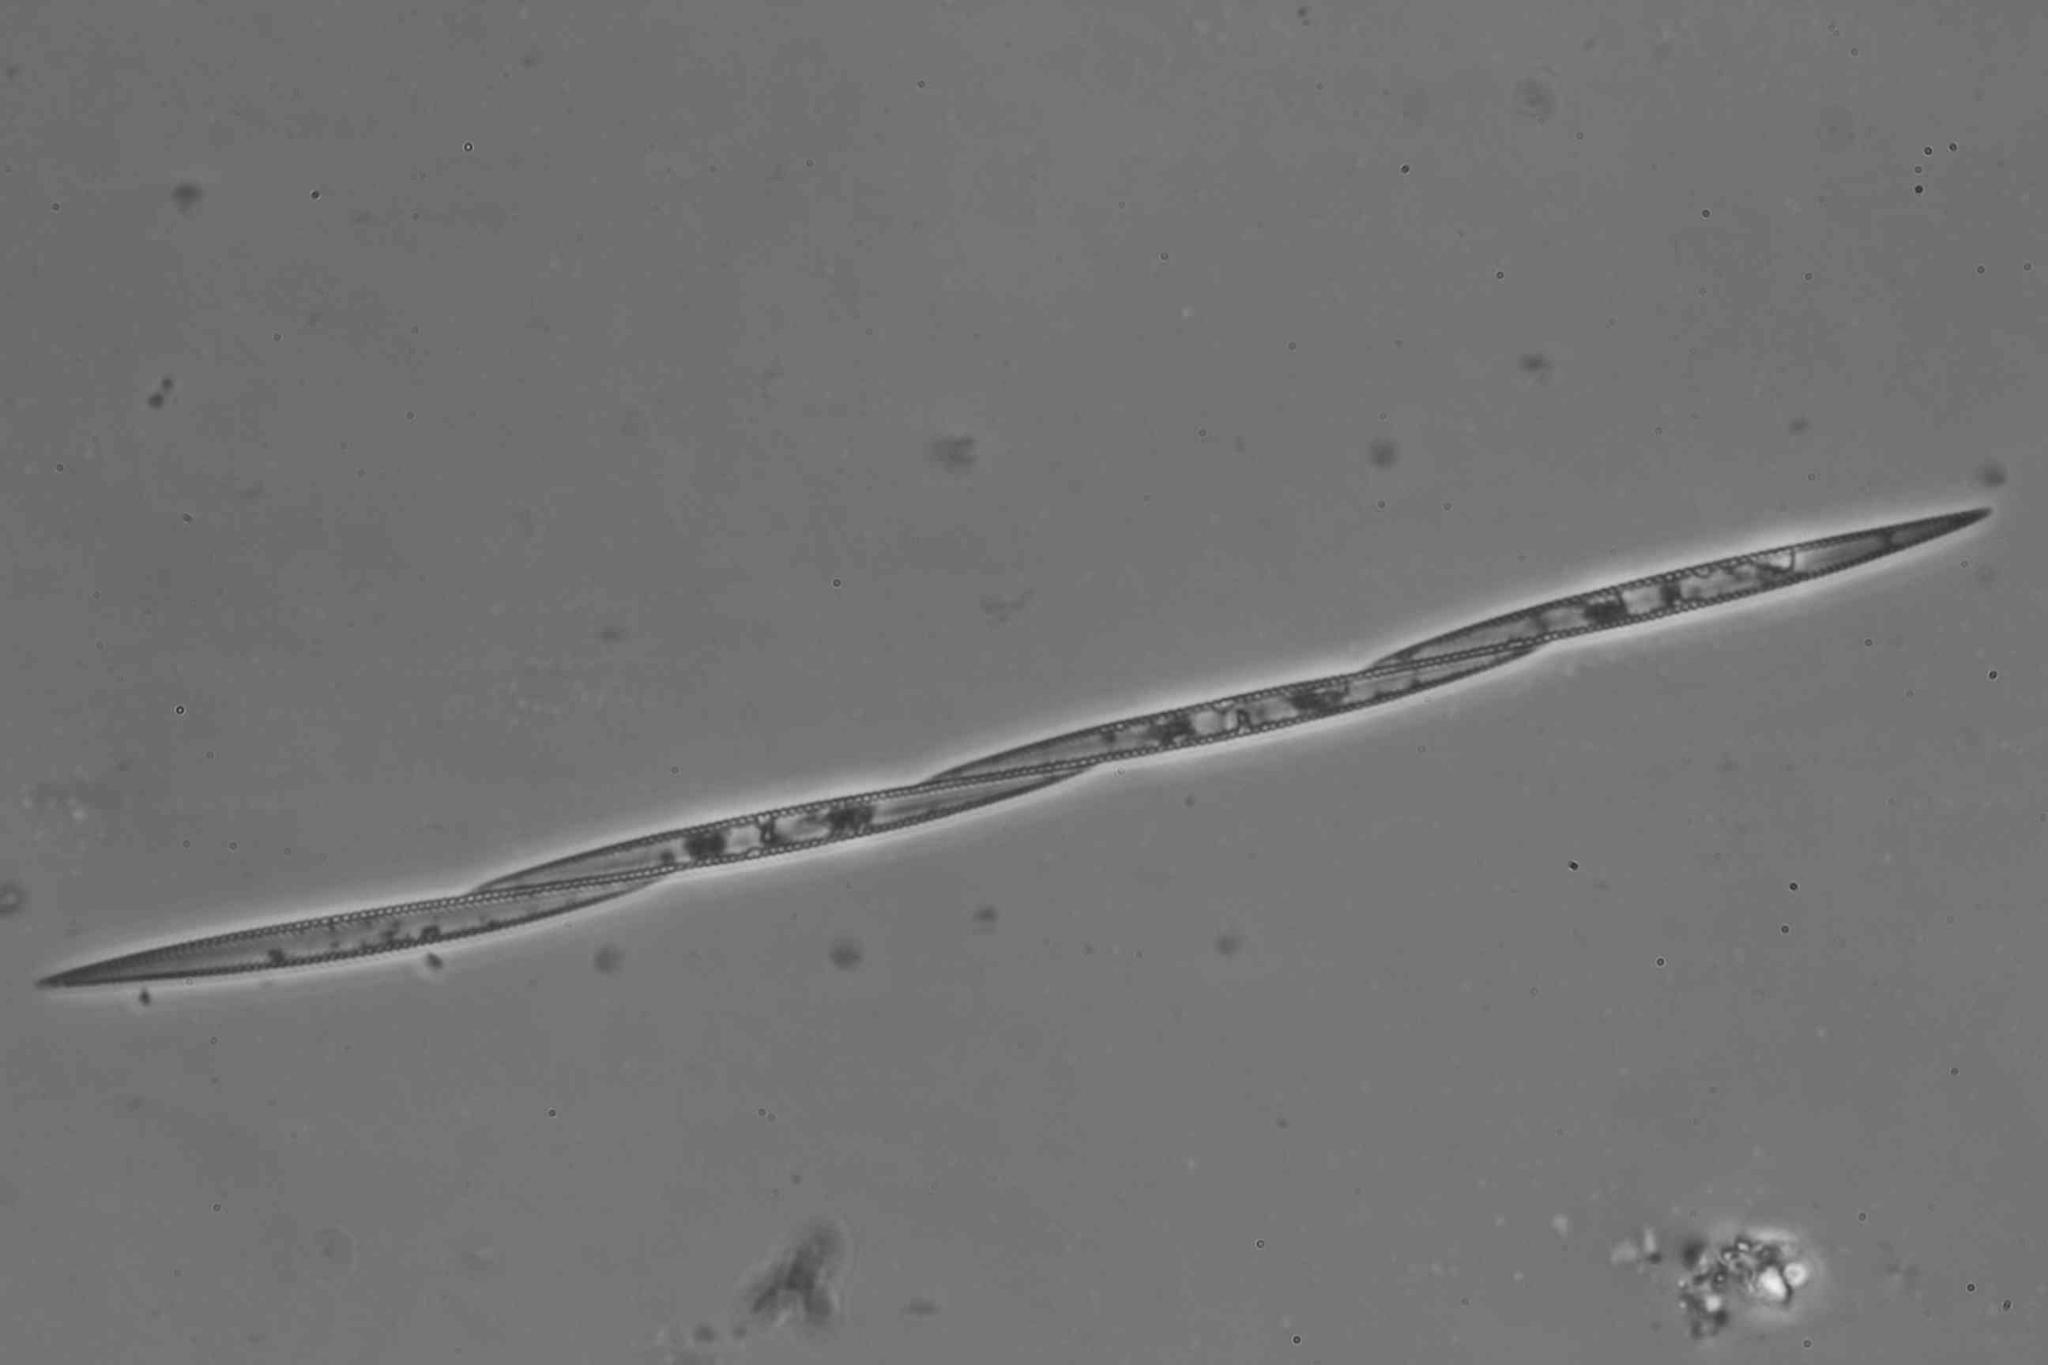pseudo_nitzschia: (33, 509, 1995, 987)
